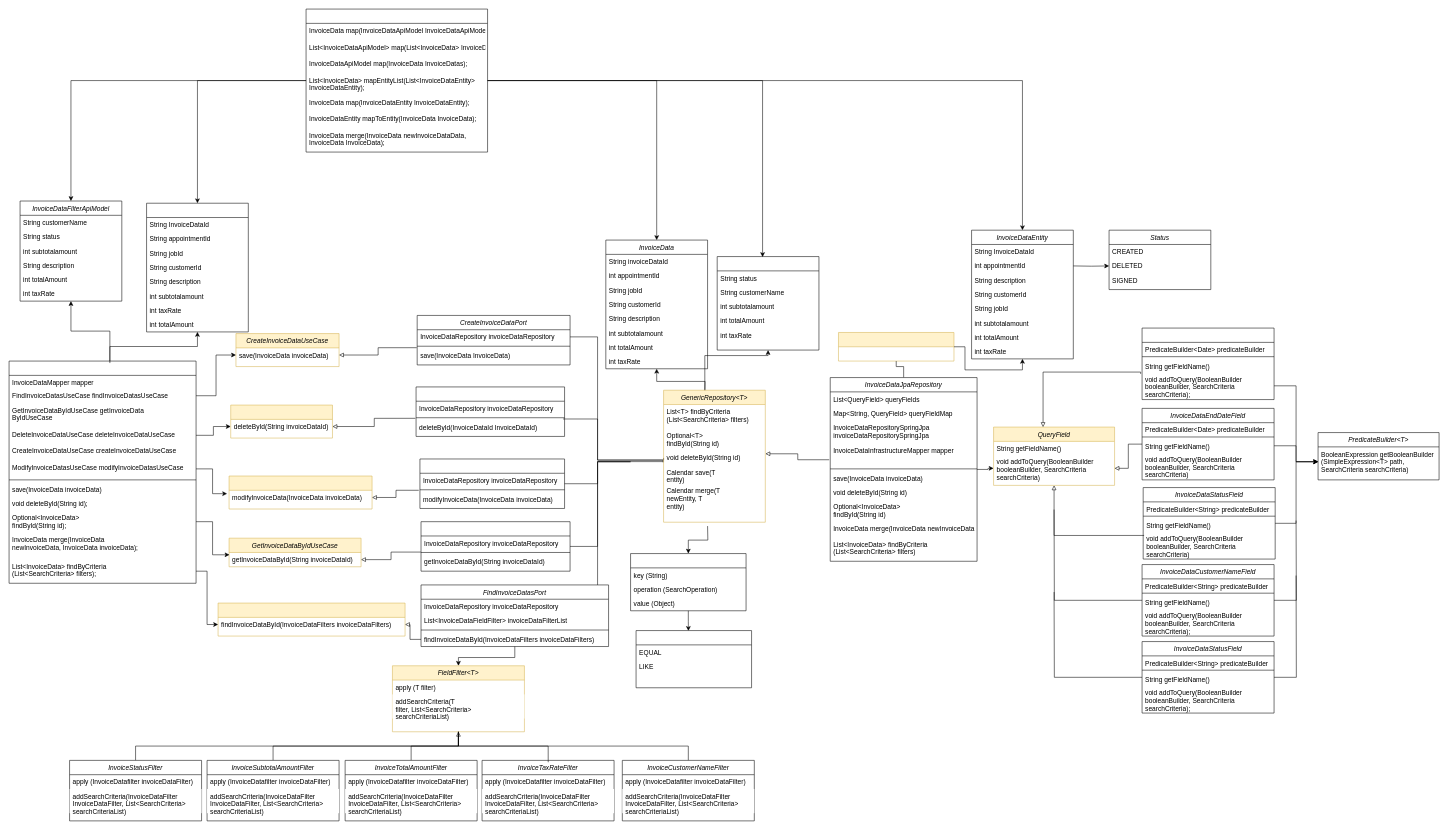
Some shapes in this 1448 by 830 pixel diagram are drawn without their labels. Here are the shapes that lost their labels. From the top down, the box of each, then its label:
(306, 9, 488, 152): InvoiceDataMapper
(146, 203, 248, 332): InvoiceDataApiModel
(717, 256, 819, 350): InvoiceDataFilters
(838, 332, 954, 361): InvoiceDataRepositorySpringJpa
(1142, 328, 1274, 400): InvoiceDataStartDateField
(230, 405, 332, 438): DeleteInvoiceDataUseCase
(416, 386, 565, 436): DeleteInvoiceDataPort
(9, 361, 196, 583): InvoiceDataController
(229, 475, 372, 509): ModifyInvoiceDataUseCase
(419, 458, 565, 508): ModifyInvoiceDataPort
(420, 521, 570, 571): FindInvoiceDataByIdPort
(630, 553, 746, 611): SearchCriteria
(218, 603, 405, 636): FindInvoiceDatasUseCase
(636, 630, 752, 688): SearchOperation (enum)
